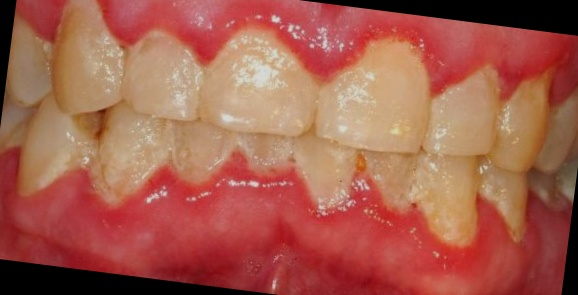Gingivitis: (152, 200, 415, 295), (288, 9, 363, 84)
